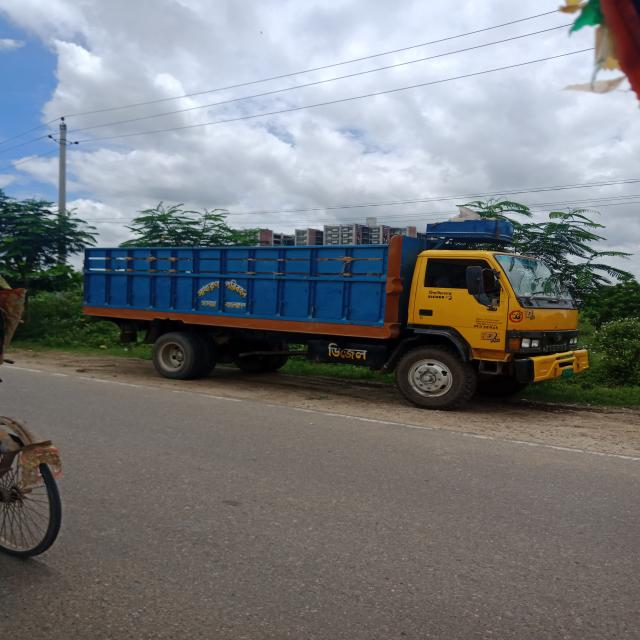truck: (64, 229, 624, 418)
